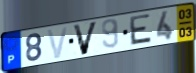4: (155, 9, 174, 42)
8: (25, 32, 44, 63)
9: (101, 18, 121, 53)
E: (128, 13, 154, 47)
V: (72, 20, 100, 57), (46, 25, 70, 61)
